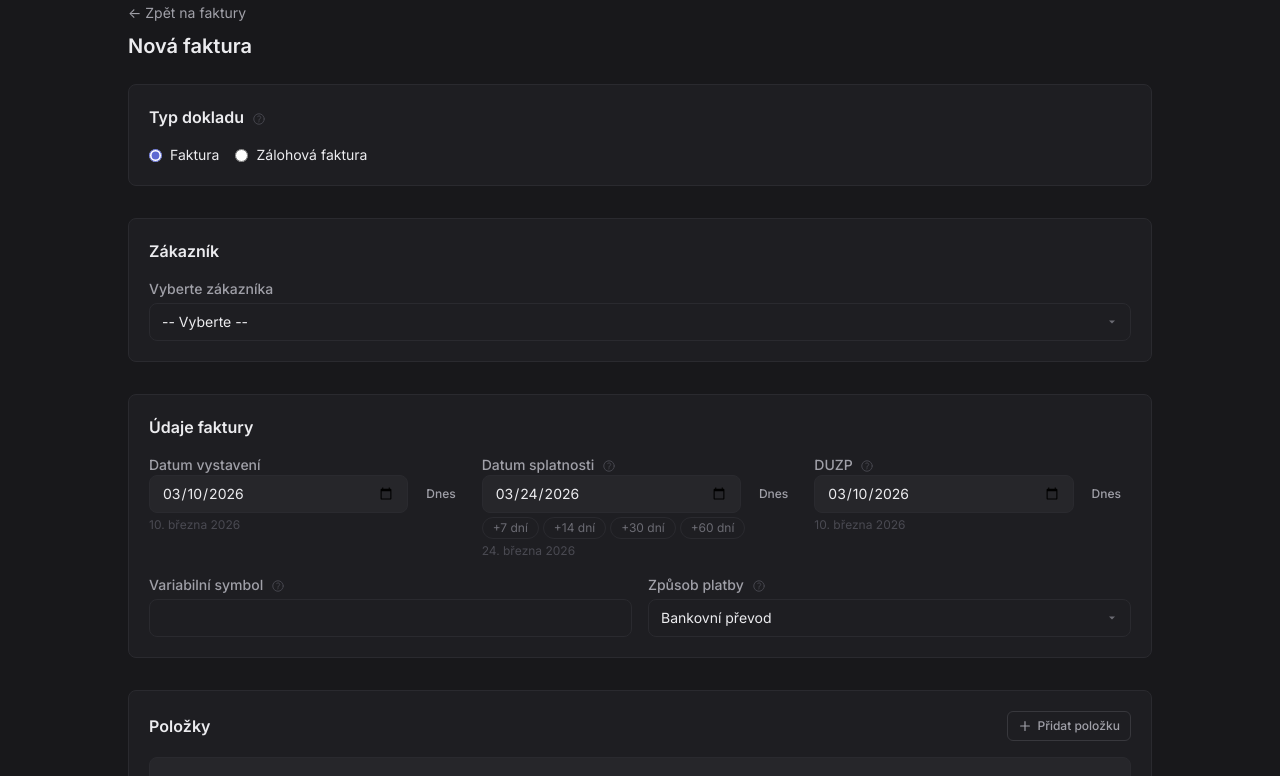
Test: Invoice Create › adds line item on button click
Click the button "Přidat položku" at (1069, 726), box [1006,711,1131,741]
(page scrolled)
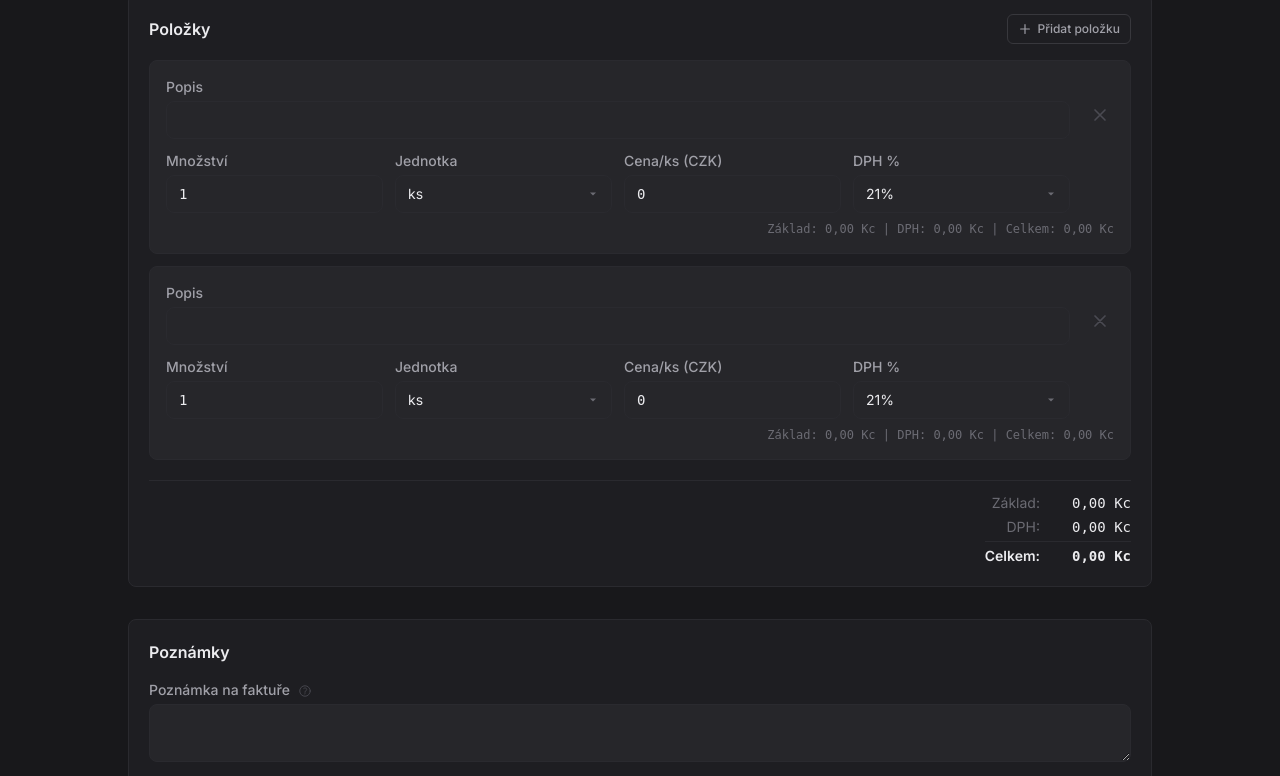
Result: the 2nd number field labelled "Množství" is shown at [166,381,383,419]
Result: the 2nd number field labelled "Cena/ks (CZK)" is shown at [624,381,841,419]
